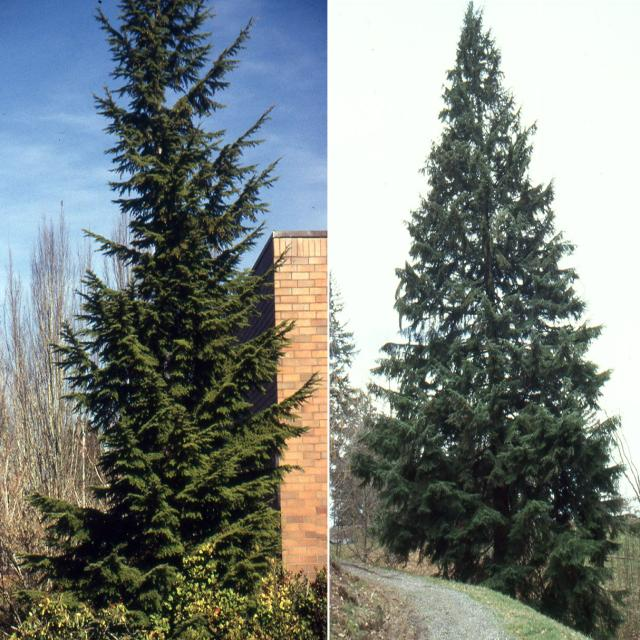Tsuga heterophylla: (26, 0, 323, 577), (371, 5, 634, 640)
